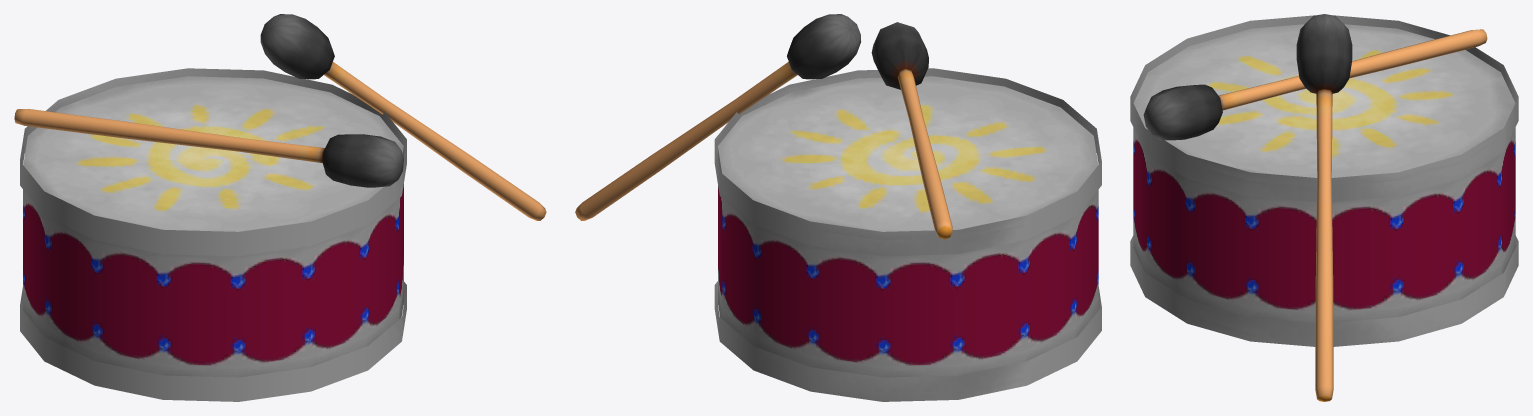
3 renders of one model, left to right at view 1: azimuth 30°, elevation 25°; view 2: azimuth 150°, elevation 25°; view 3: azimuth 270°, elevation 25°, orthographic.
Parts seen in each view (by area): view 1: drum01.001, drumBita01.001, drumBita01; view 2: drum01.001, drumBita01, drumBita01.001; view 3: drum01.001, drumBita01, drumBita01.001.
Boxes of the visible parts, x1,y1,x2,y2 form: drum01.001: (20, 68, 406, 401); drumBita01.001: (14, 109, 403, 187); drumBita01: (260, 14, 546, 220); drum01.001: (714, 68, 1101, 401); drumBita01: (575, 14, 861, 220); drumBita01.001: (871, 22, 952, 239); drum01.001: (1130, 15, 1518, 346); drumBita01: (1296, 14, 1352, 401); drumBita01.001: (1143, 29, 1487, 140).
Bounding box in the file's own units: 632 × 345 × 426.
Materials: 2 (2 with a texture image).
